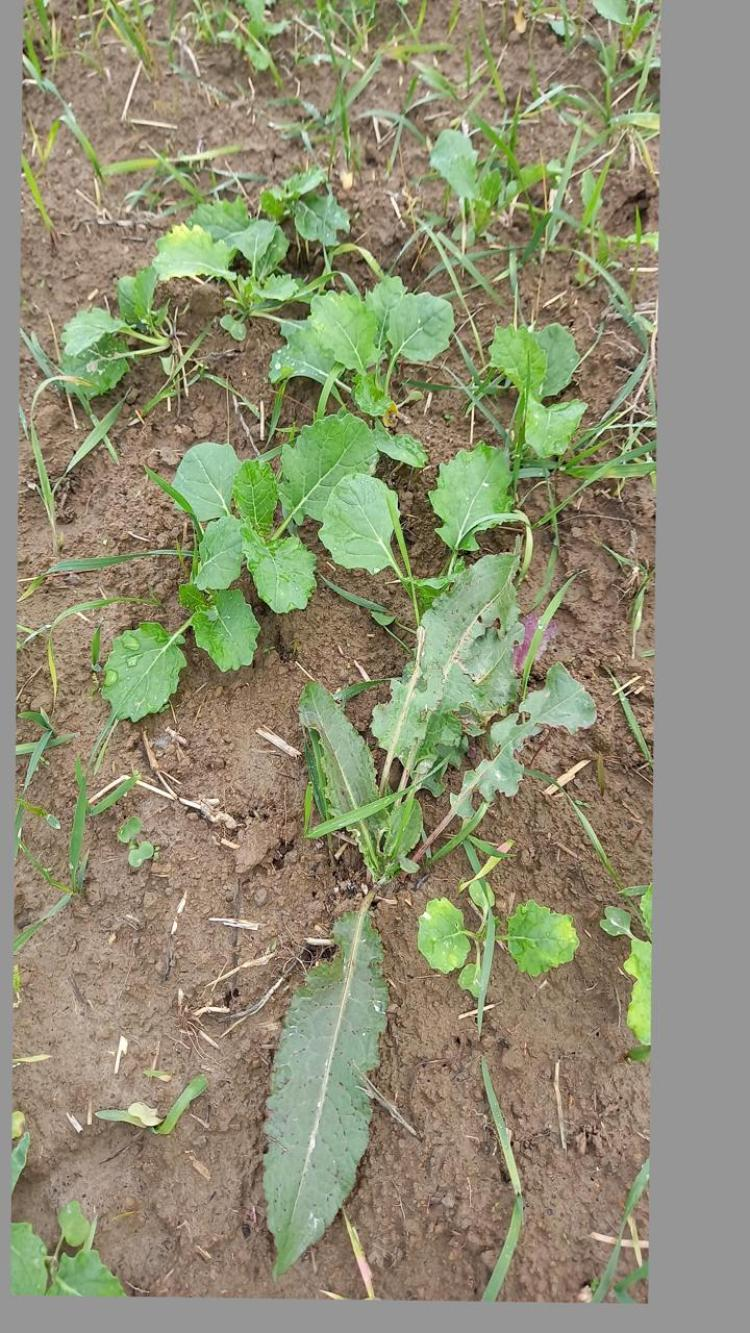zhavel: (260, 537, 600, 1275)
